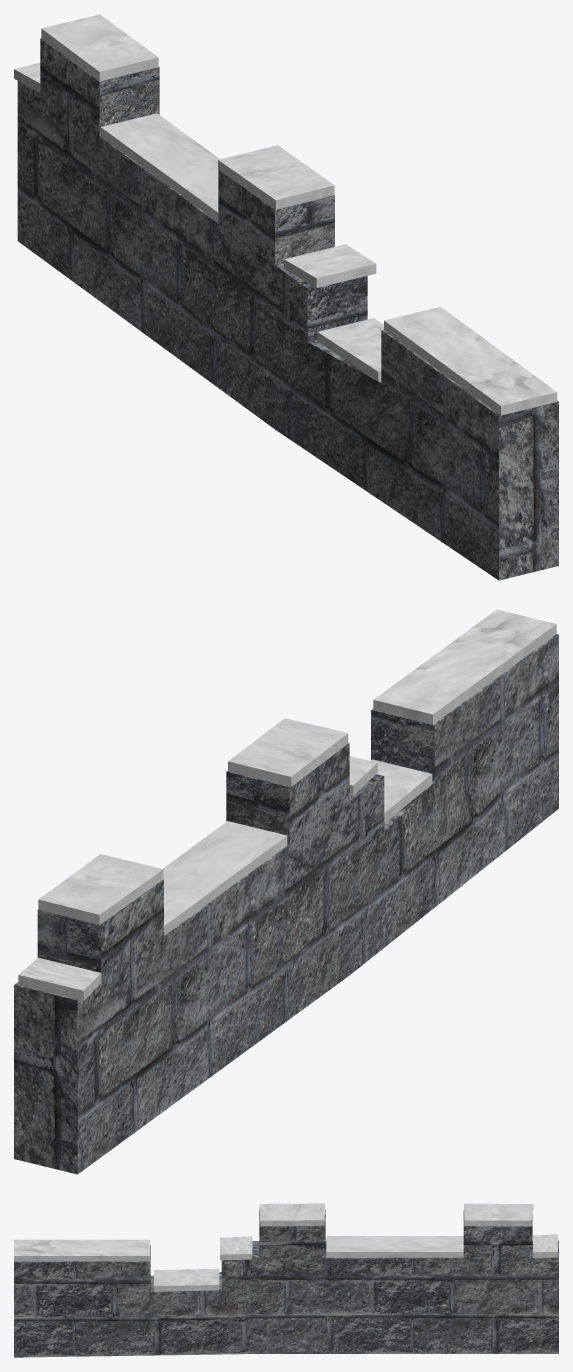
File: StoneWallA_CSnowLOD.fbx
3 renders of one model, top to bottom at view 1: azimuth 30°, elevation 25°; view 2: azimuth 150°, elevation 25°; view 3: azimuth 270°, elevation 25°, orthographic. The views are drawn at different scales.
Parts seen in each view (by area): view 1: StoneWallA_CSnowLOD; view 2: StoneWallA_CSnowLOD; view 3: StoneWallA_CSnowLOD.
Boxes of the visible parts, x1,y1,x2,y2 form: StoneWallA_CSnowLOD: (14,14,558,580); StoneWallA_CSnowLOD: (14,609,558,1174); StoneWallA_CSnowLOD: (14,1203,558,1357).
Size of the model in its own units: 56.6 by 159 by 589.
